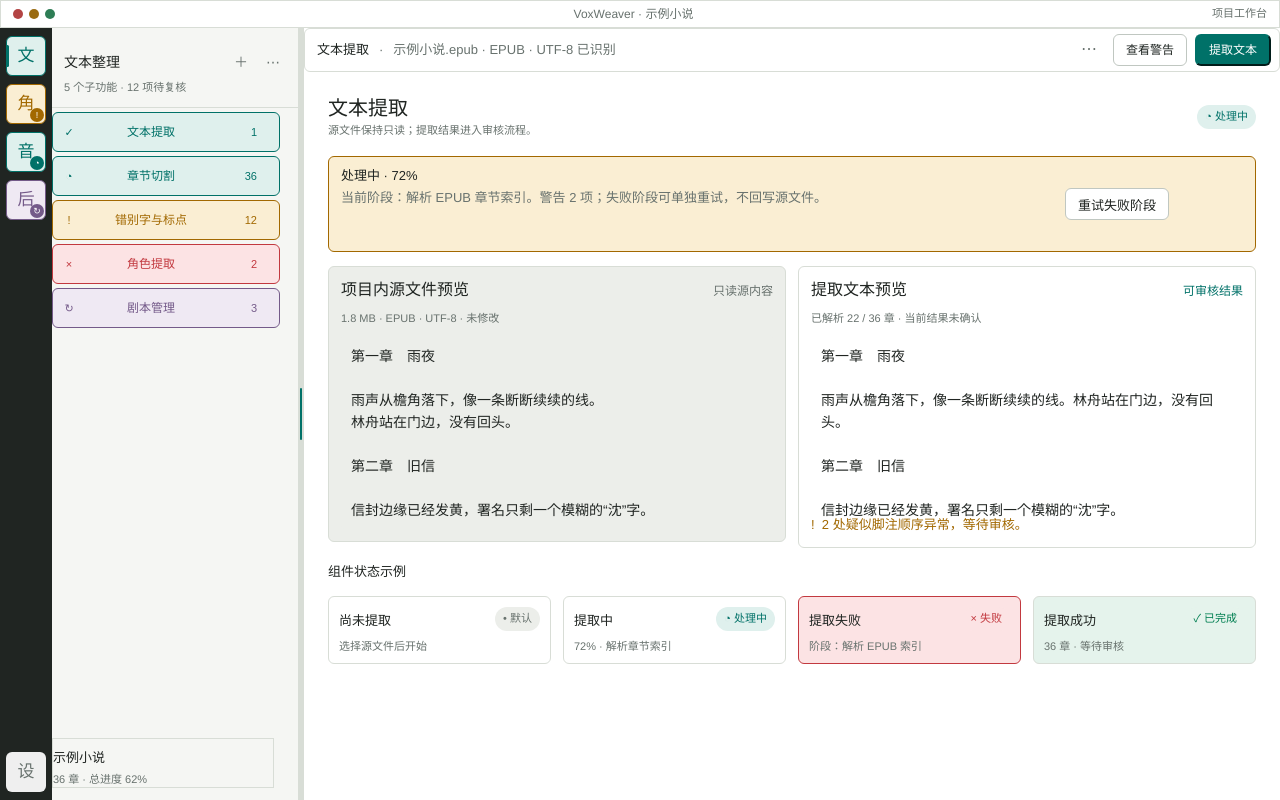
text demo local interactions › 提取重试状态只由用户操作按默认、处理中、失败、完成循环切换
The image size is (1280, 800).
Click the button with test id "retry-extraction-stage".
click(1117, 204)  # box [1065, 188, 1169, 220]
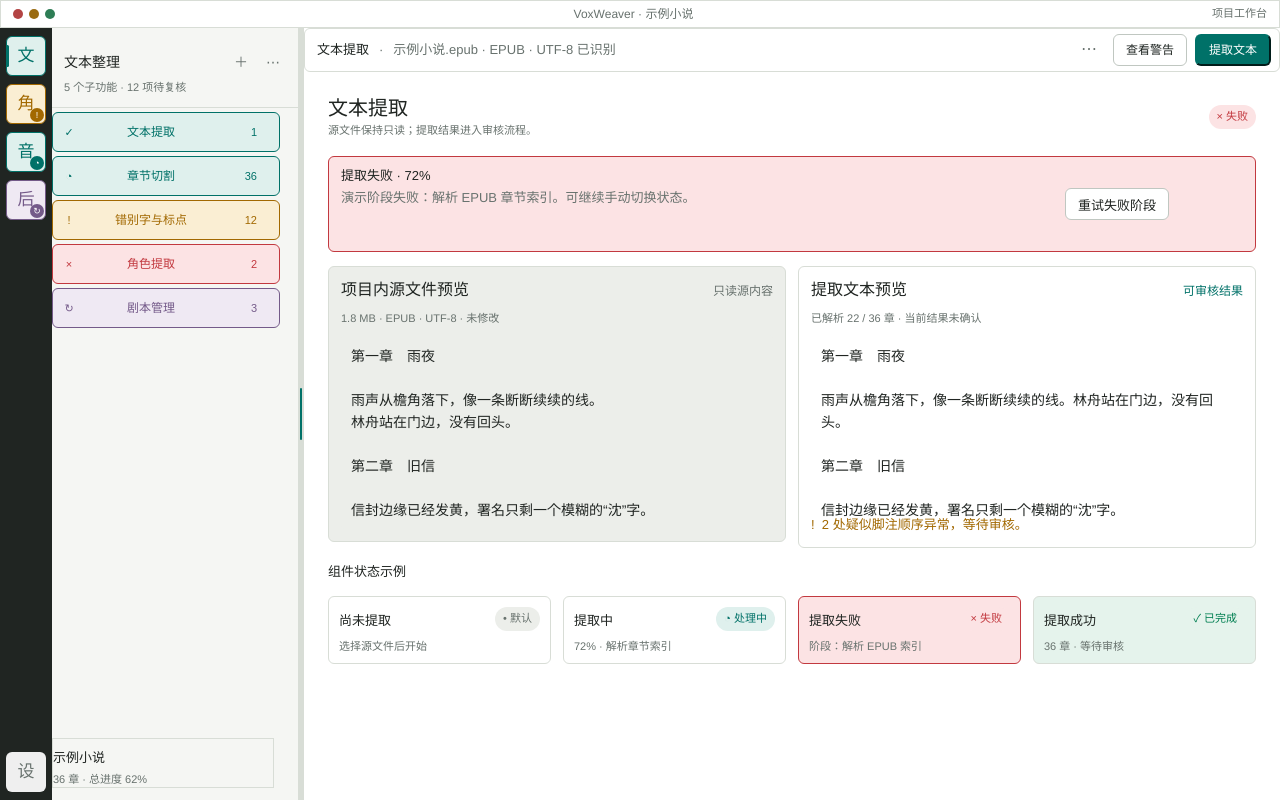
Now the text with class "status-badge" in the row of "源文件保持只读；提取结果进入审核流程。" shows "失败", box [1216, 111, 1248, 123]
Click the button with test id "retry-extraction-stage".
click(1117, 204)  # box [1065, 188, 1169, 220]
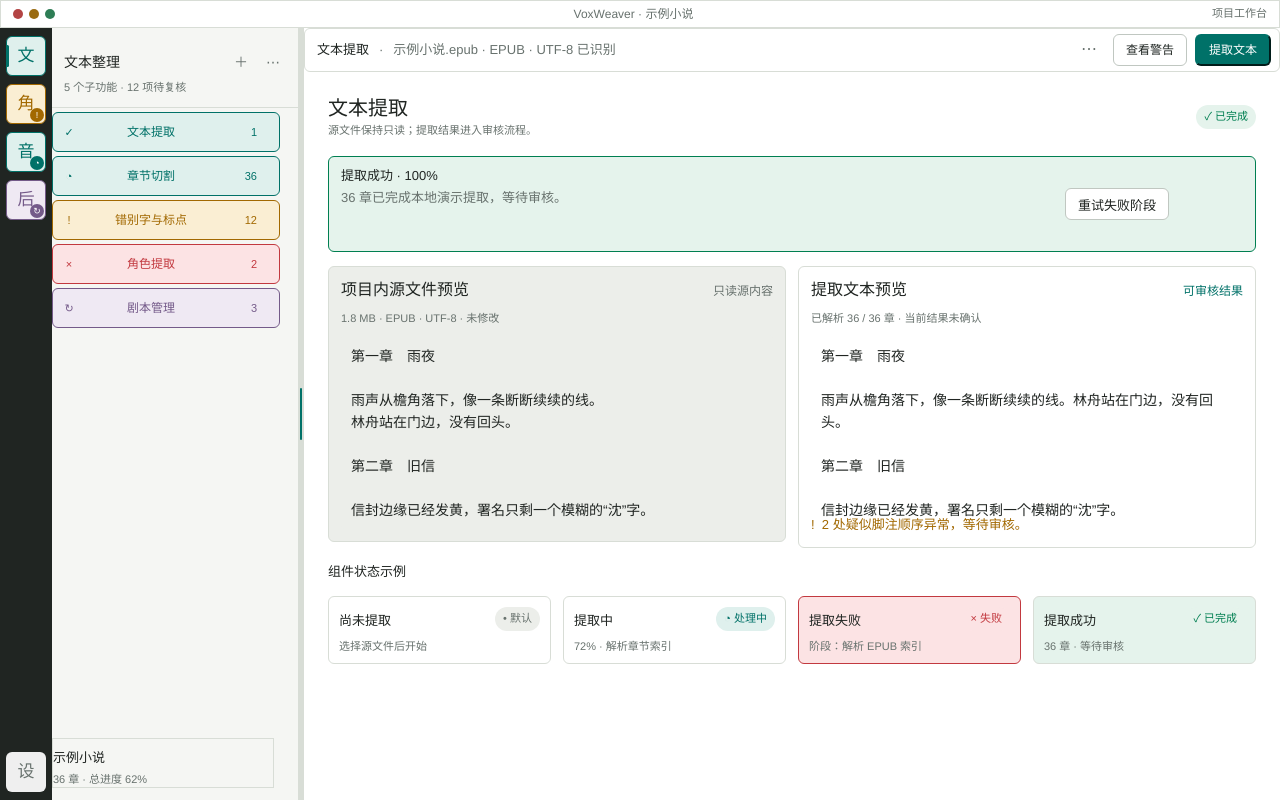
Now the text with class "status-badge" in the row of "源文件保持只读；提取结果进入审核流程。" shows "完成", box [1196, 105, 1256, 129]
Click the button with test id "retry-extraction-stage".
click(1117, 204)  # box [1065, 188, 1169, 220]
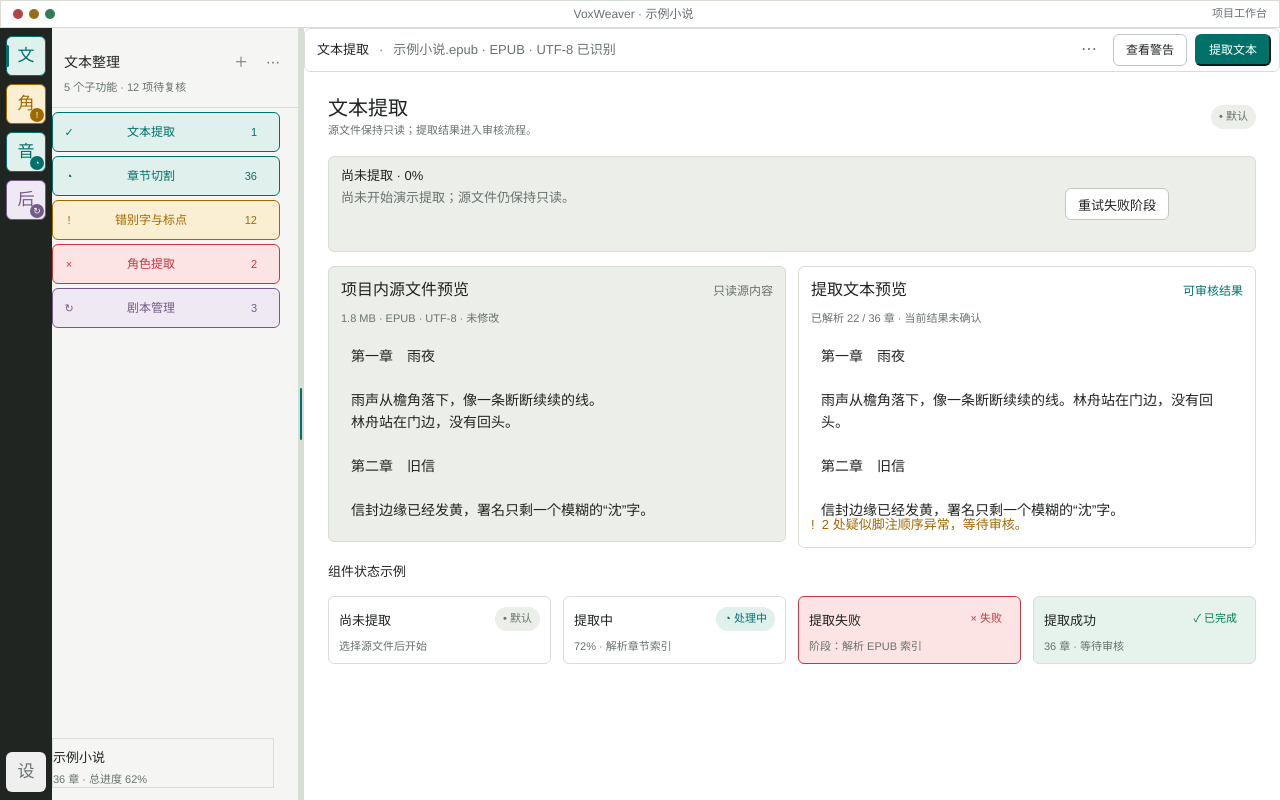
Now the text with class "status-badge" in the row of "源文件保持只读；提取结果进入审核流程。" shows "默认", box [1219, 111, 1248, 123]
Click the button with test id "retry-extraction-stage".
click(1117, 204)  # box [1065, 188, 1169, 220]
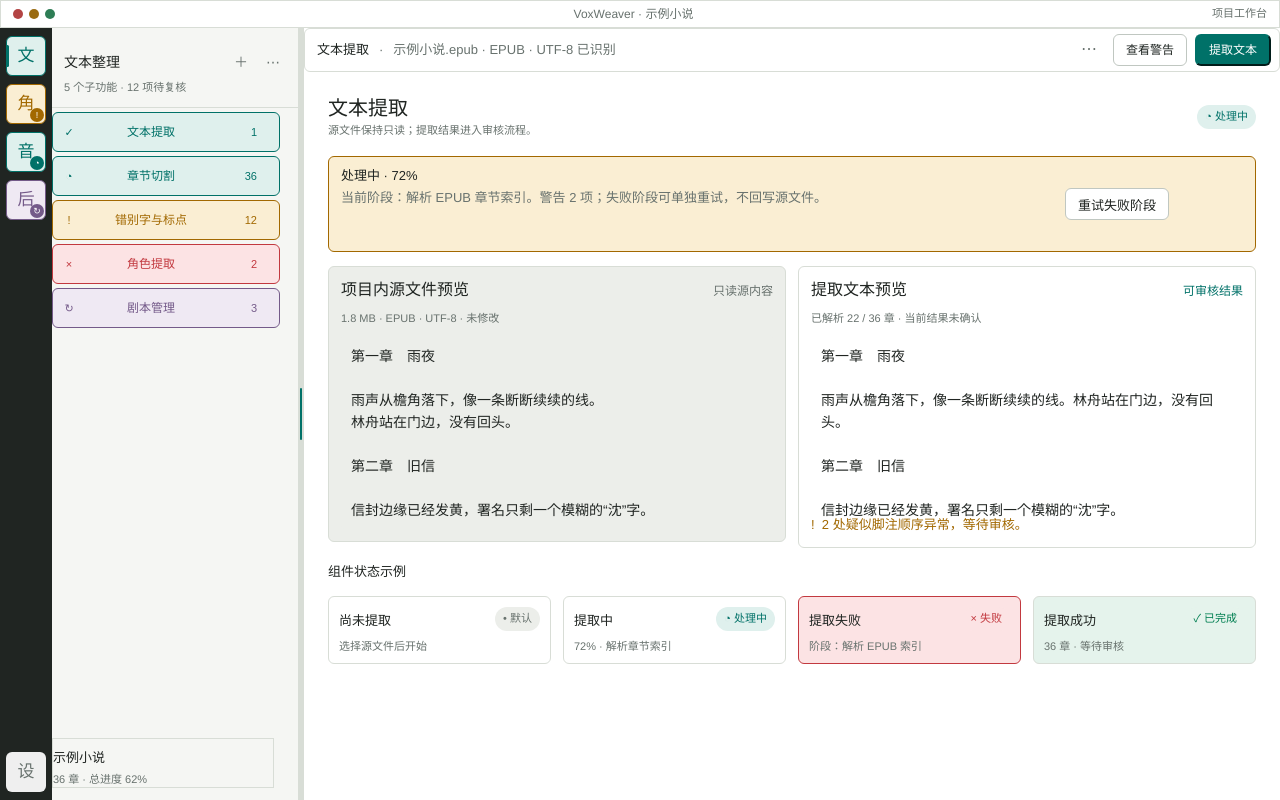
Now the text with class "status-badge" in the row of "源文件保持只读；提取结果进入审核流程。" shows "处理中", box [1205, 111, 1248, 123]
